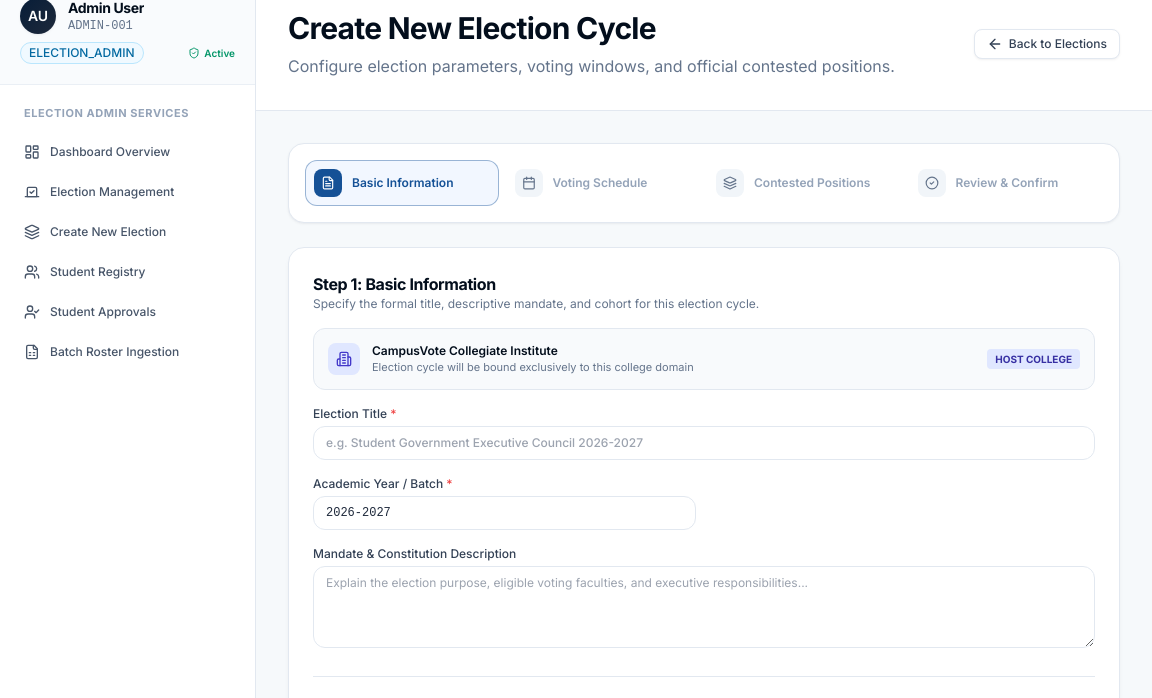
Test: Phase 3 Create Election Wizard › defaults to Draft (Unpublished) on Step 4 and allows toggling publication mode
// Fill step 1
In the field with placeholder "e.g. Student Government Executive Council 2026-2027": (704, 443) x1=313 y1=426 x2=1095 y2=460, type "Tech Club Election"
(page scrolled)
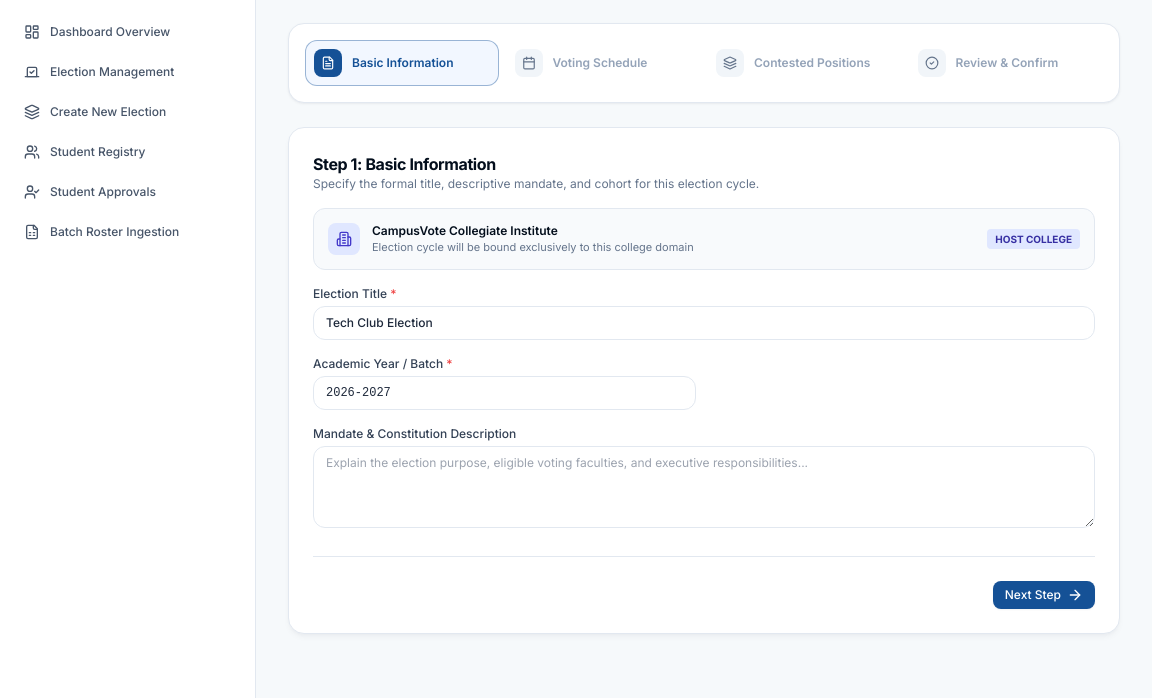
Click the button "Next Step": (1044, 595) x1=993 y1=581 x2=1095 y2=609
(page scrolled)
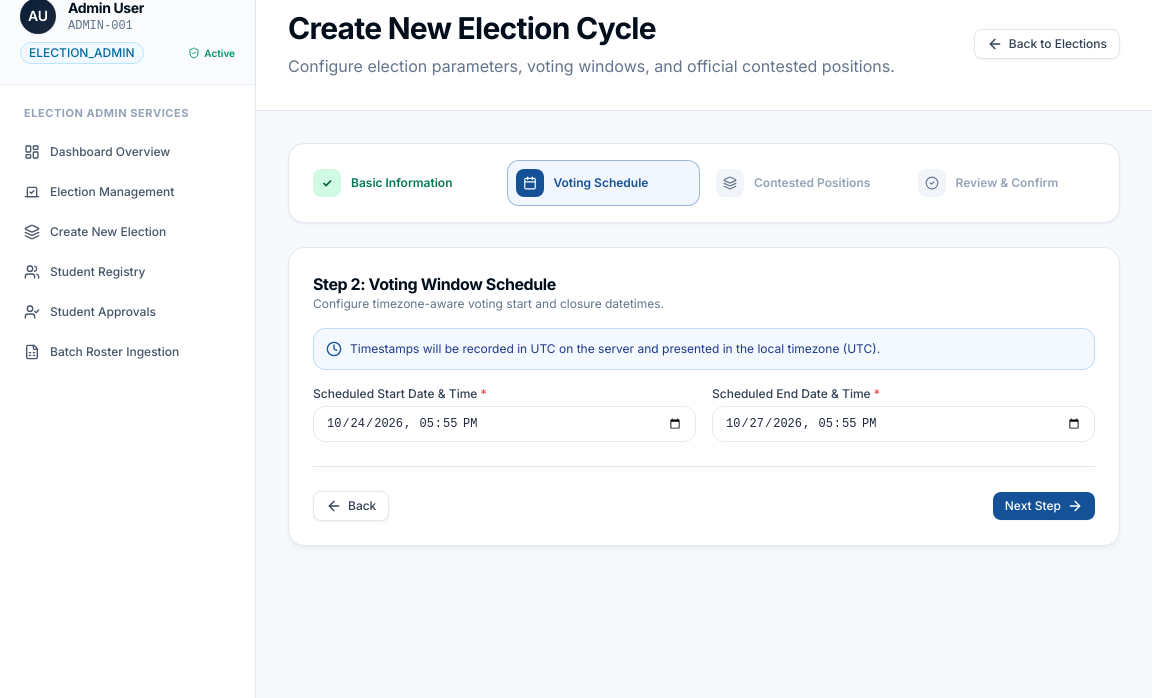
Expected: the heading "Step 2: Voting Window Schedule" is shown, x1=313 y1=274 x2=556 y2=294
Click the button "Next Step": (1044, 506) x1=993 y1=492 x2=1095 y2=520
(page scrolled)
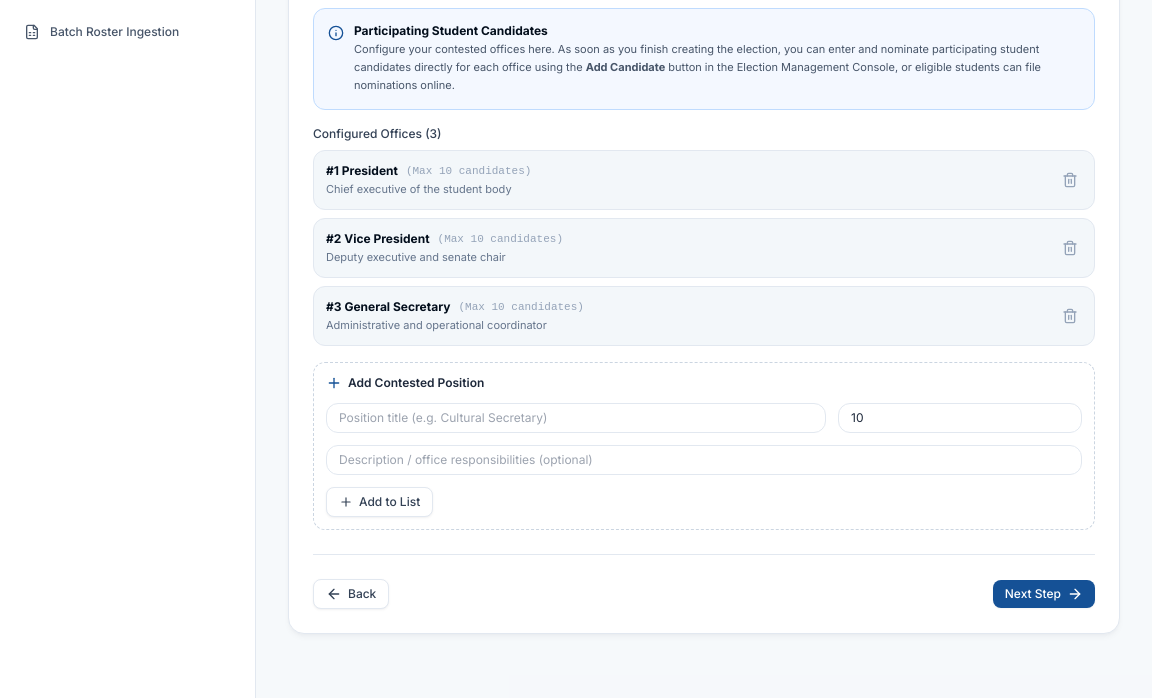
Click the button "Next Step": (1044, 594) x1=993 y1=580 x2=1095 y2=608
(page scrolled)
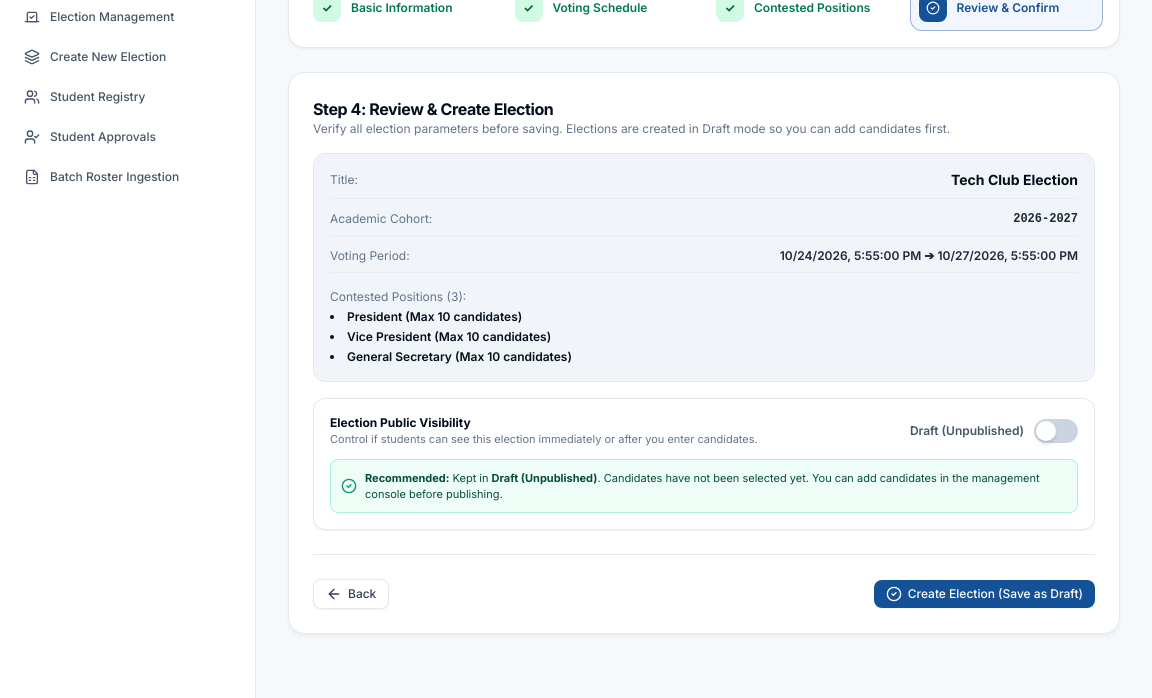
Expected: the heading "Step 4: Review & Create Election" is shown, x1=313 y1=99 x2=553 y2=119
Expected: the text "Election Public Visibility" is shown, x1=330 y1=415 x2=471 y2=430
Expected: the text "Draft (Unpublished)" in the row of "Election Public Visibility" is shown, x1=910 y1=423 x2=1024 y2=438
// Toggle switch
Click the switch: (1056, 431) x1=1034 y1=419 x2=1078 y2=443
(page scrolled)
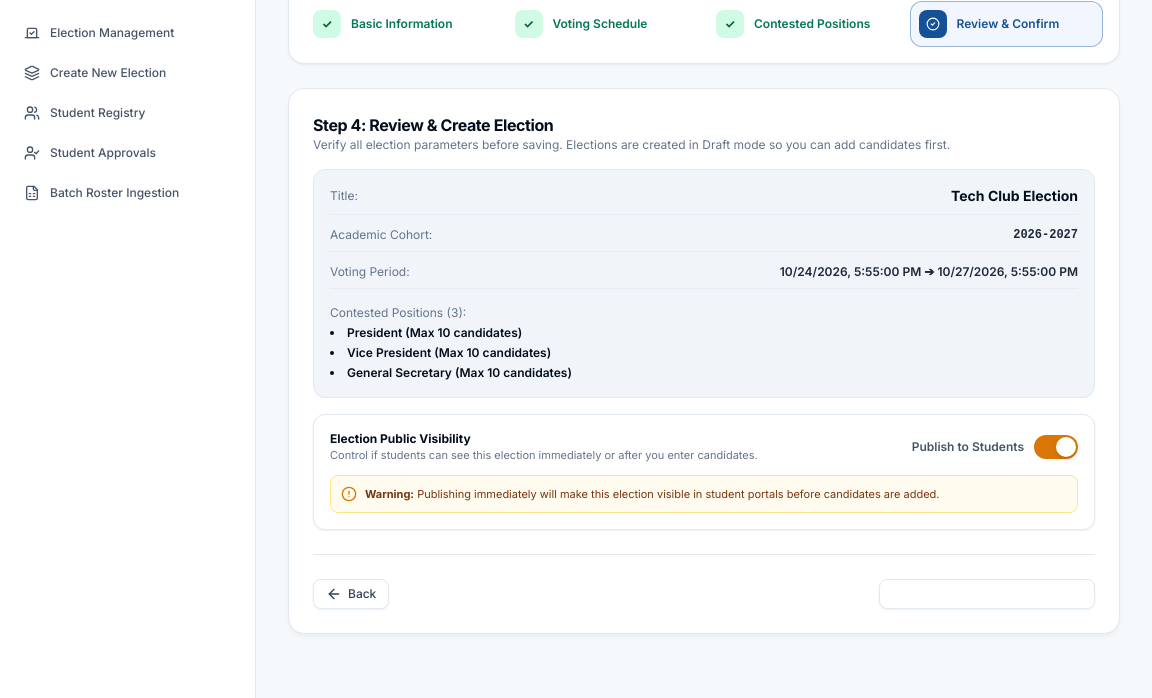
Expected: the text "Publish to Students" is shown, x1=912 y1=439 x2=1024 y2=455
Expected: the button "Create & Publish Immediately" is shown, x1=879 y1=579 x2=1095 y2=609
